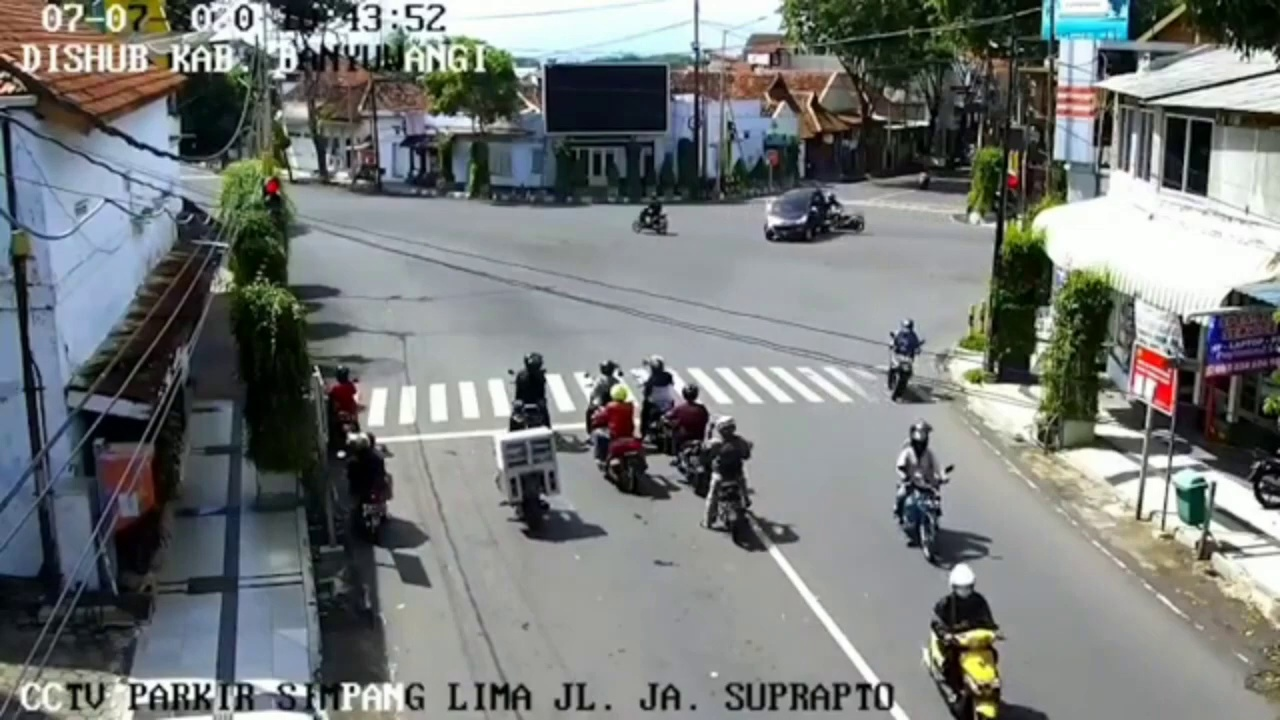car: (768, 187, 826, 244)
motorbike: (921, 558, 1023, 720), (500, 414, 559, 540), (891, 424, 946, 557), (706, 416, 756, 546), (597, 385, 645, 489), (350, 434, 393, 534), (674, 387, 712, 499), (646, 356, 680, 452), (585, 357, 618, 451), (889, 323, 921, 401), (331, 369, 363, 440), (637, 191, 674, 236)
